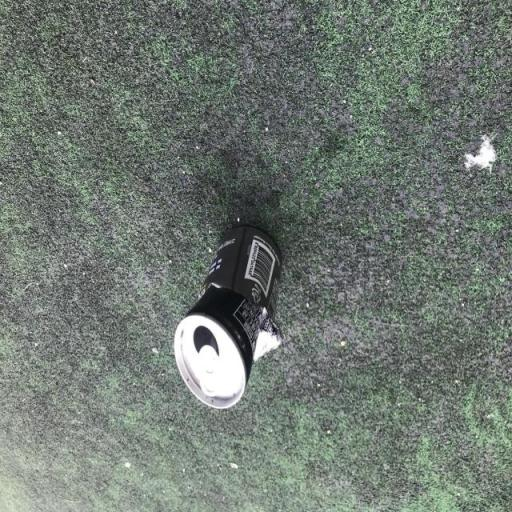metal: (163, 200, 294, 427)
